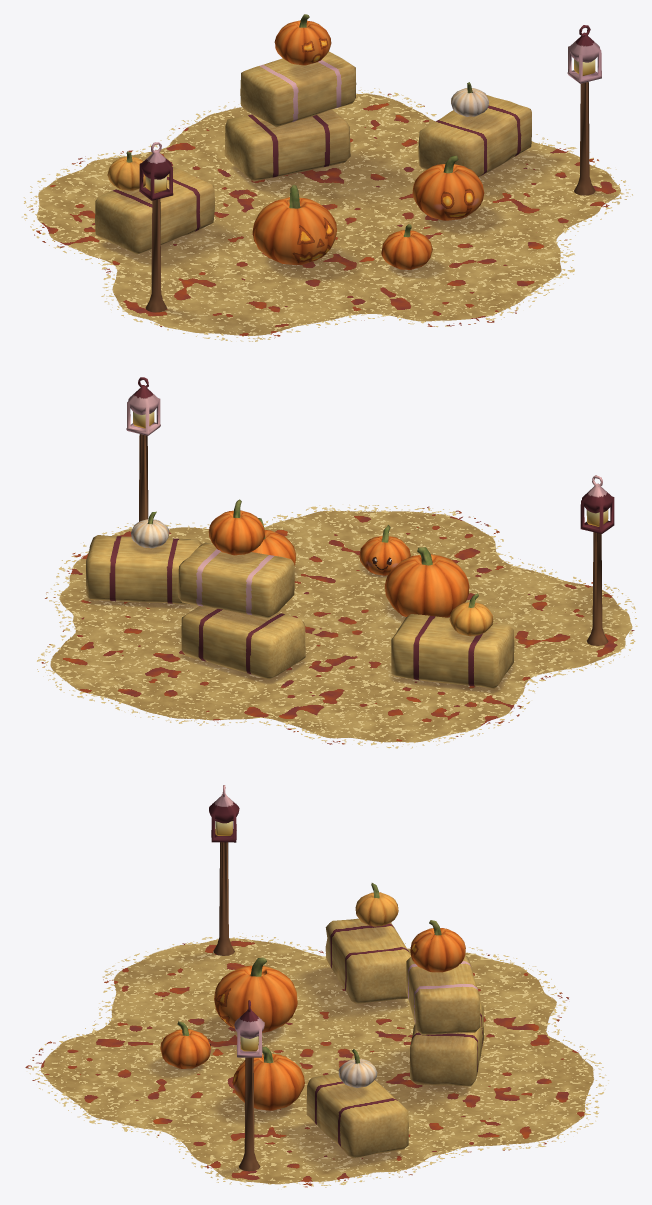
Rendered from HW_NorthLawn.glb.
The picture shows the model from 3 angles, top to bottom: view 1: azimuth 30°, elevation 25°; view 2: azimuth 150°, elevation 25°; view 3: azimuth 270°, elevation 25°; orthographic projection.
Visible parts, largest first — view 1: GroundHint, Hay_B, Hay_B2, Hay_A, Hay_C, Jack_A, Jack_B, Lantern_Blush, Lantern_Wine, Jack_C, Pumpkin_A, Pumpkin_B (+1 smaller); view 2: GroundHint, Hay_A, Hay_B, Hay_B2, Hay_C, Jack_A, Lantern_Wine, Jack_C, Lantern_Blush, Pumpkin_A, Pumpkin_B, Pumpkin_C (+1 smaller); view 3: GroundHint, Hay_C, Hay_A, Hay_B2, Jack_A, Hay_B, Jack_B, Lantern_Wine, Lantern_Blush, Jack_C, Pumpkin_A, Pumpkin_B (+1 smaller).
Part boxes in pixels (left/top/right/bottom): GroundHint: left=21, top=88, right=632, bottom=341; Hay_B: left=224, top=109, right=350, bottom=181; Hay_B2: left=240, top=51, right=356, bottom=127; Hay_A: left=95, top=166, right=215, bottom=254; Hay_C: left=418, top=95, right=531, bottom=177; Jack_A: left=252, top=185, right=336, bottom=265; Jack_B: left=412, top=155, right=484, bottom=220; Lantern_Blush: left=567, top=25, right=601, bottom=195; Lantern_Wine: left=139, top=142, right=173, bottom=312; Jack_C: left=274, top=14, right=331, bottom=65; Pumpkin_A: left=381, top=224, right=432, bottom=269; Pumpkin_B: left=107, top=151, right=145, bottom=190; GroundHint: left=37, top=504, right=637, bottom=748; Hay_A: left=391, top=614, right=514, bottom=688; Hay_B: left=181, top=606, right=305, bottom=679; Hay_B2: left=178, top=542, right=294, bottom=618; Hay_C: left=86, top=535, right=202, bottom=604; Jack_A: left=384, top=547, right=469, bottom=617; Lantern_Wine: left=580, top=475, right=614, bottom=645; Jack_C: left=208, top=499, right=264, bottom=555; Lantern_Blush: left=126, top=377, right=160, bottom=521; Pumpkin_A: left=359, top=525, right=410, bottom=575; Pumpkin_B: left=449, top=593, right=493, bottom=636; Pumpkin_C: left=131, top=511, right=169, bottom=548; GroundHint: left=25, top=932, right=608, bottom=1189; Hay_C: left=306, top=1072, right=408, bottom=1158; Hay_A: left=325, top=918, right=410, bottom=1004; Hay_B2: left=406, top=955, right=480, bottom=1034; Jack_A: left=214, top=957, right=297, bottom=1032; Hay_B: left=410, top=1002, right=483, bottom=1086; Jack_B: left=232, top=1046, right=304, bottom=1110; Lantern_Wine: left=209, top=785, right=239, bottom=955; Lantern_Blush: left=234, top=1000, right=264, bottom=1171; Jack_C: left=410, top=920, right=465, bottom=972; Pumpkin_A: left=160, top=1021, right=210, bottom=1068; Pumpkin_B: left=355, top=883, right=398, bottom=926.
Size of the model in its own units: 4.9 by 1.47 by 4.9.
2 materials, 2 textured.
